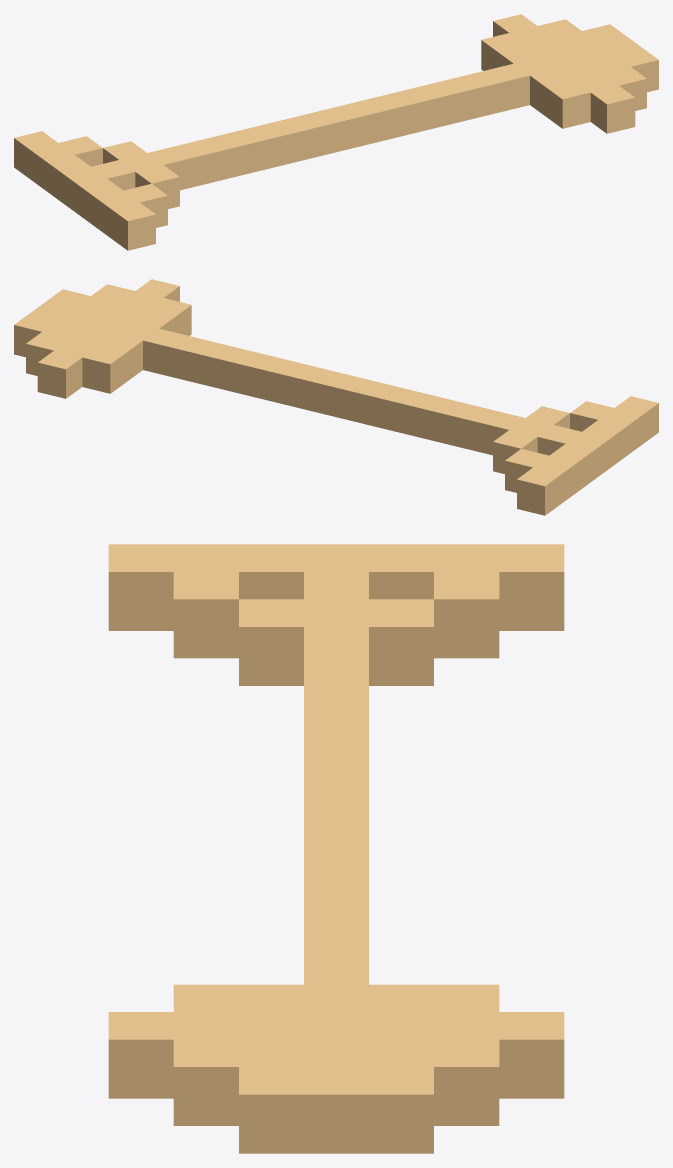
The model's file is paddle.obj.
3 views of the same model, one above another, from view 1: azimuth 30°, elevation 25°; view 2: azimuth 150°, elevation 25°; view 3: azimuth 270°, elevation 25° (orthographic). The views are drawn at different scales.
Size of the model in its own units: 2 by 0.1 by 0.7.
1 material, 1 textured.
